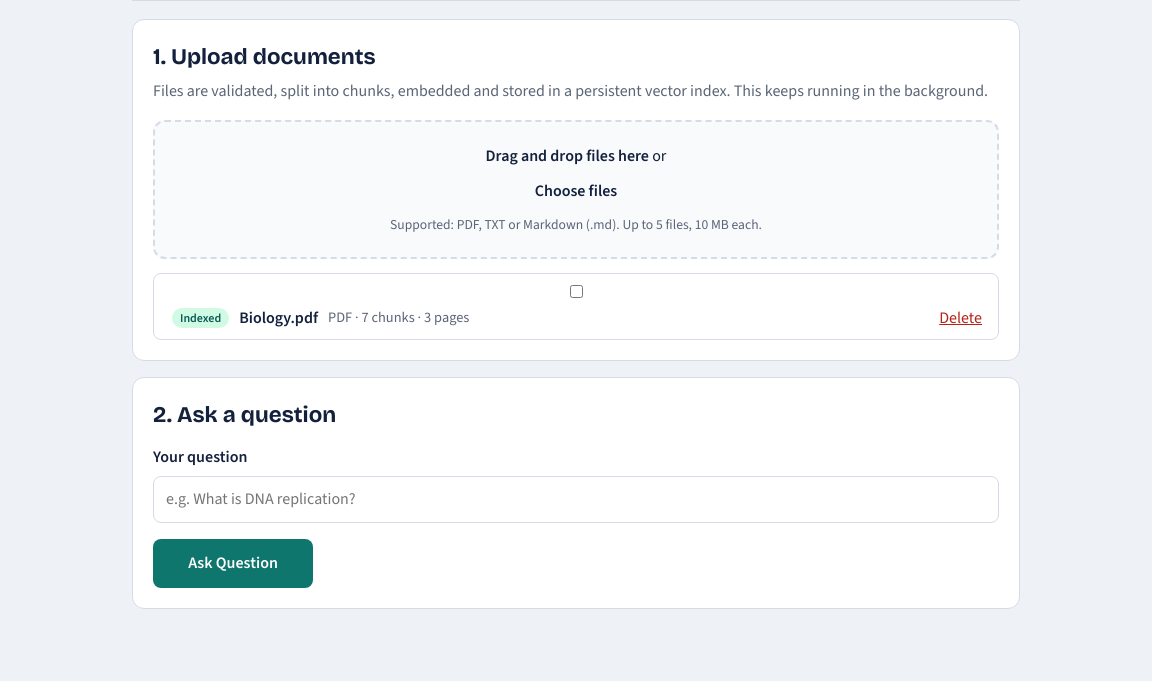
Scenario: Document Q&A (advanced) › shows a friendly error when streaming fails
(page scrolled)
Expected: the text "Biology.pdf" is shown, left=239, top=306, right=318, bottom=330
Type "Anything?" into the field labelled "Your question" at {"x": 576, "y": 499}, box left=153, top=476, right=999, bottom=523
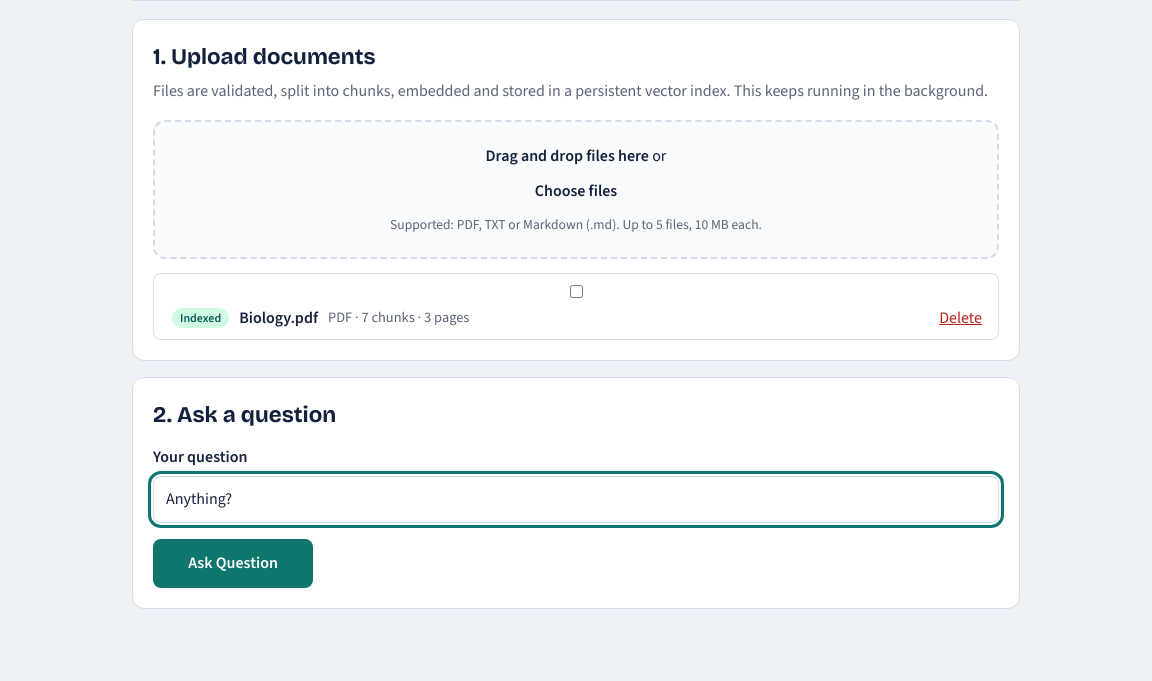
Click the button "Ask Question" at {"x": 233, "y": 563}, box left=153, top=539, right=313, bottom=588
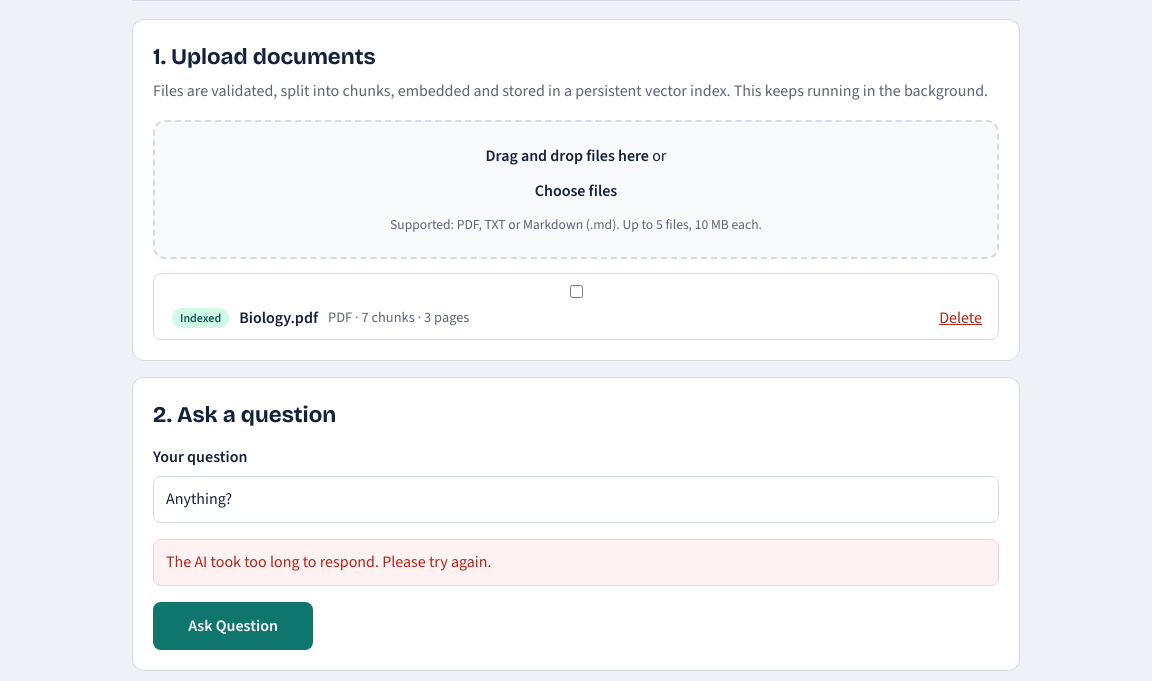
Expected: the message shows "took too long", left=166, top=551, right=492, bottom=572
